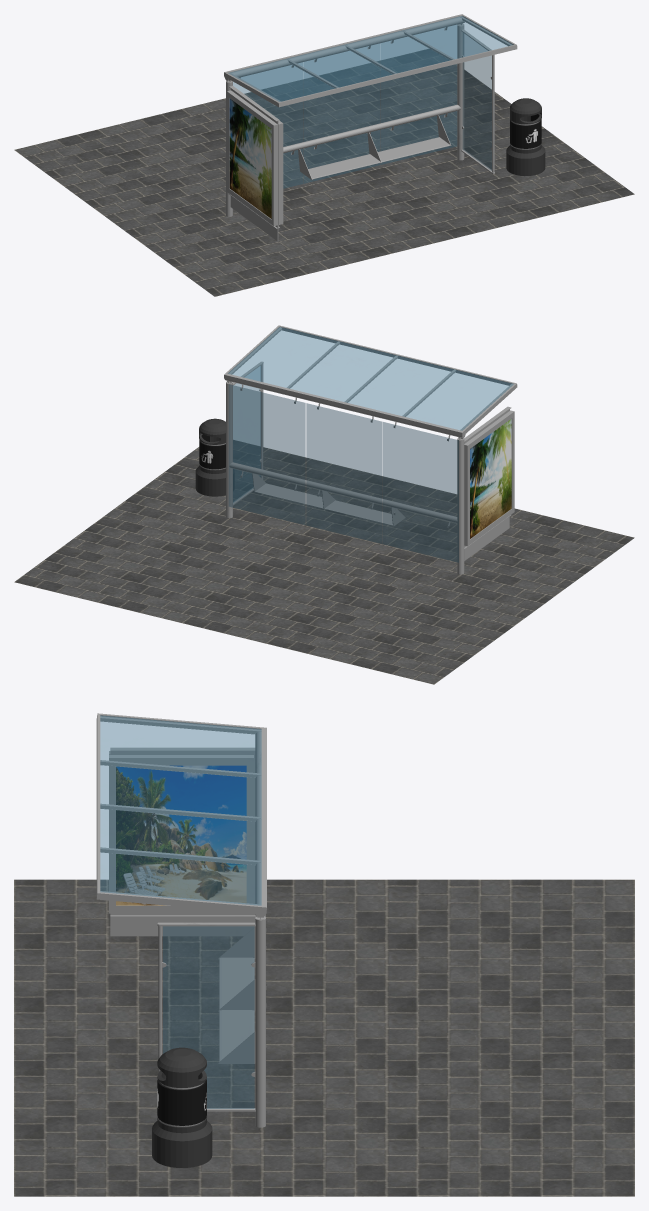
3 renders of one model, top to bottom at view 1: azimuth 30°, elevation 25°; view 2: azimuth 150°, elevation 25°; view 3: azimuth 270°, elevation 25°, orthographic. The views are drawn at different scales.
Visible parts, largest first — view 1: Plane, Cylinder.001 (×3), Circle; view 2: Plane, Cylinder.001 (×3), Circle; view 3: Plane, Cylinder.001 (×3), Circle.
Part boxes in pixels (box(x1,y1,x2,y2)): Plane: box(14, 49, 634, 296); Cylinder.001 (×3): box(224, 14, 517, 241); Circle: box(506, 98, 545, 176); Plane: box(14, 440, 634, 684); Cylinder.001 (×3): box(224, 325, 517, 574); Circle: box(195, 418, 234, 496); Plane: box(14, 879, 634, 1196); Cylinder.001 (×3): box(96, 713, 266, 1127); Circle: box(152, 1047, 212, 1167).
Size of the model in its own units: 3.51 by 1.21 by 2.9.
5 materials, 5 textured.
